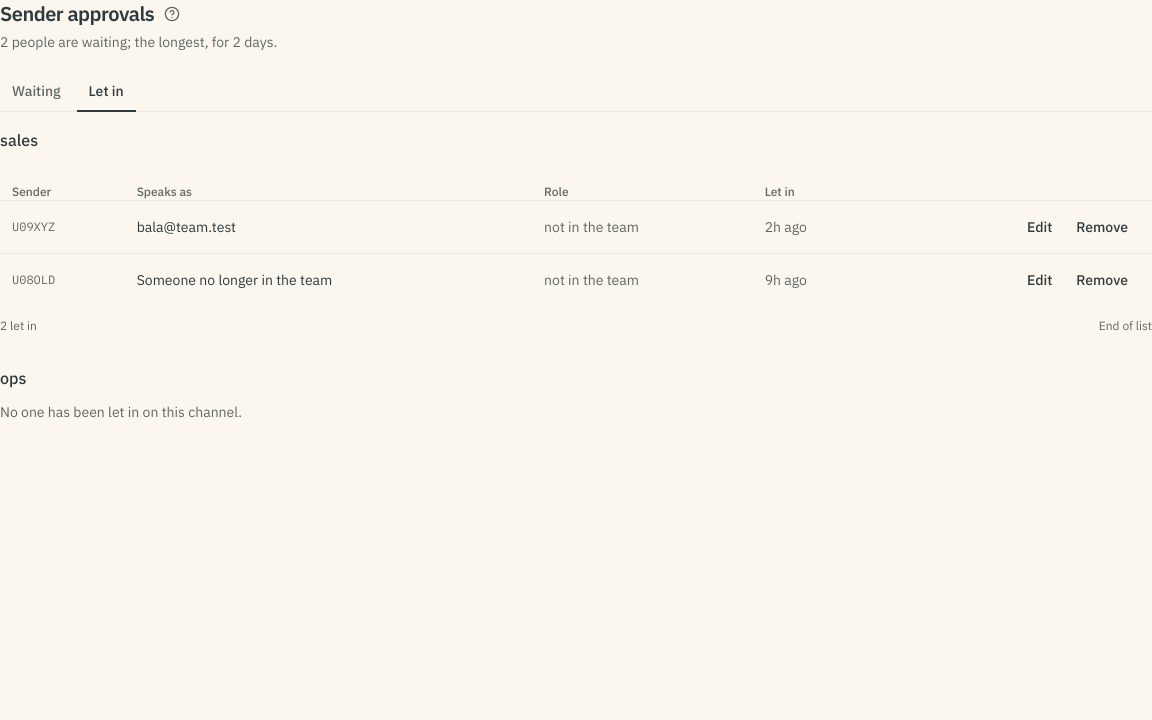
Test case: shows the brain's refusal in the confirm, and stays
Click the button with aria-label "Remove U09XYZ".
click(1102, 226)  # box [1064,210,1140,242]
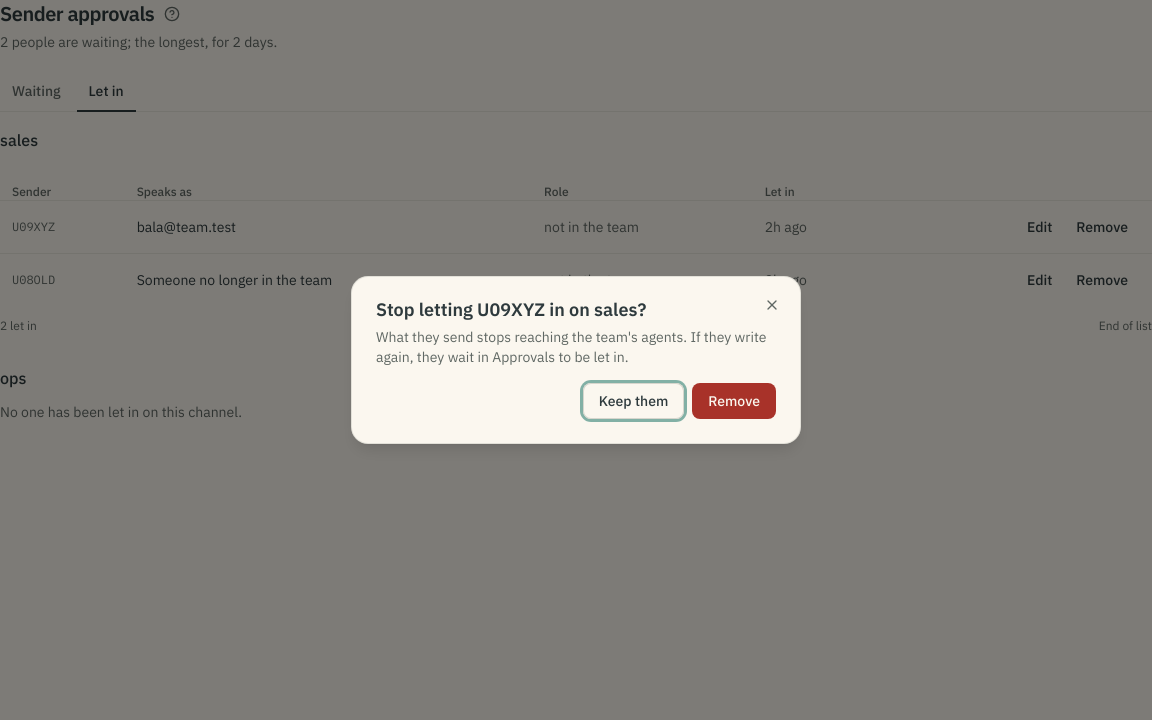
Click the button "Remove".
click(734, 401)  # box [692,383,776,419]
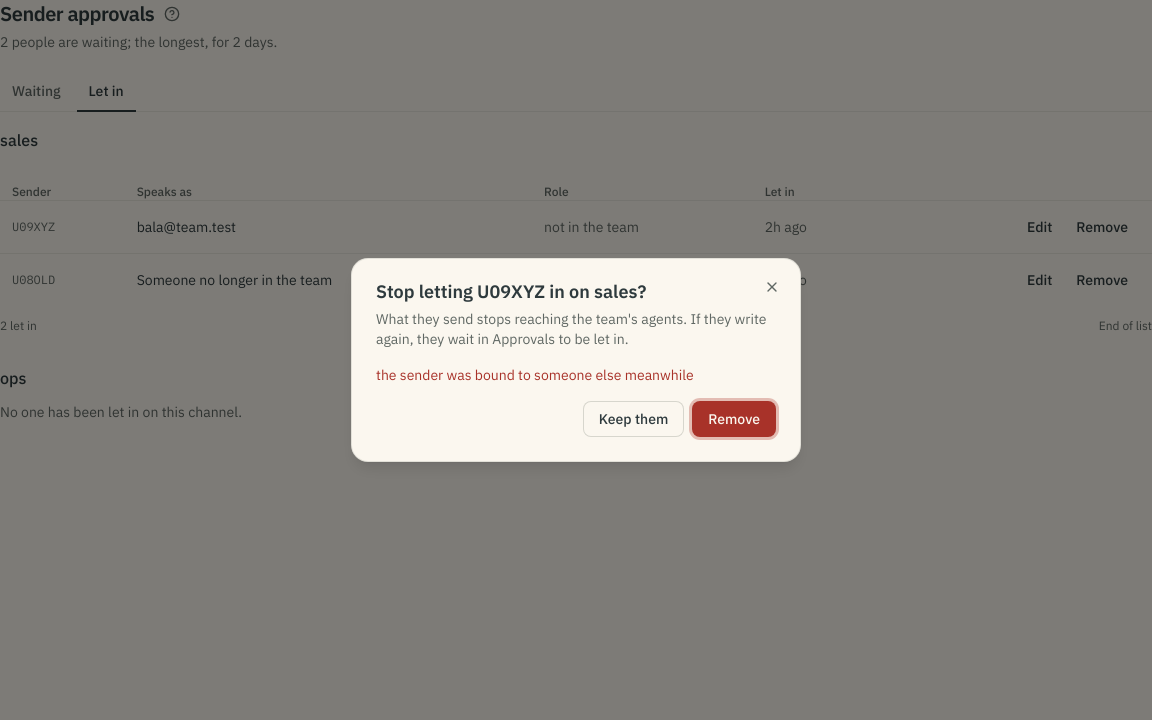
Now the message reads "the sender was bound to someone else meanwhile", box [376,366,694,384]
